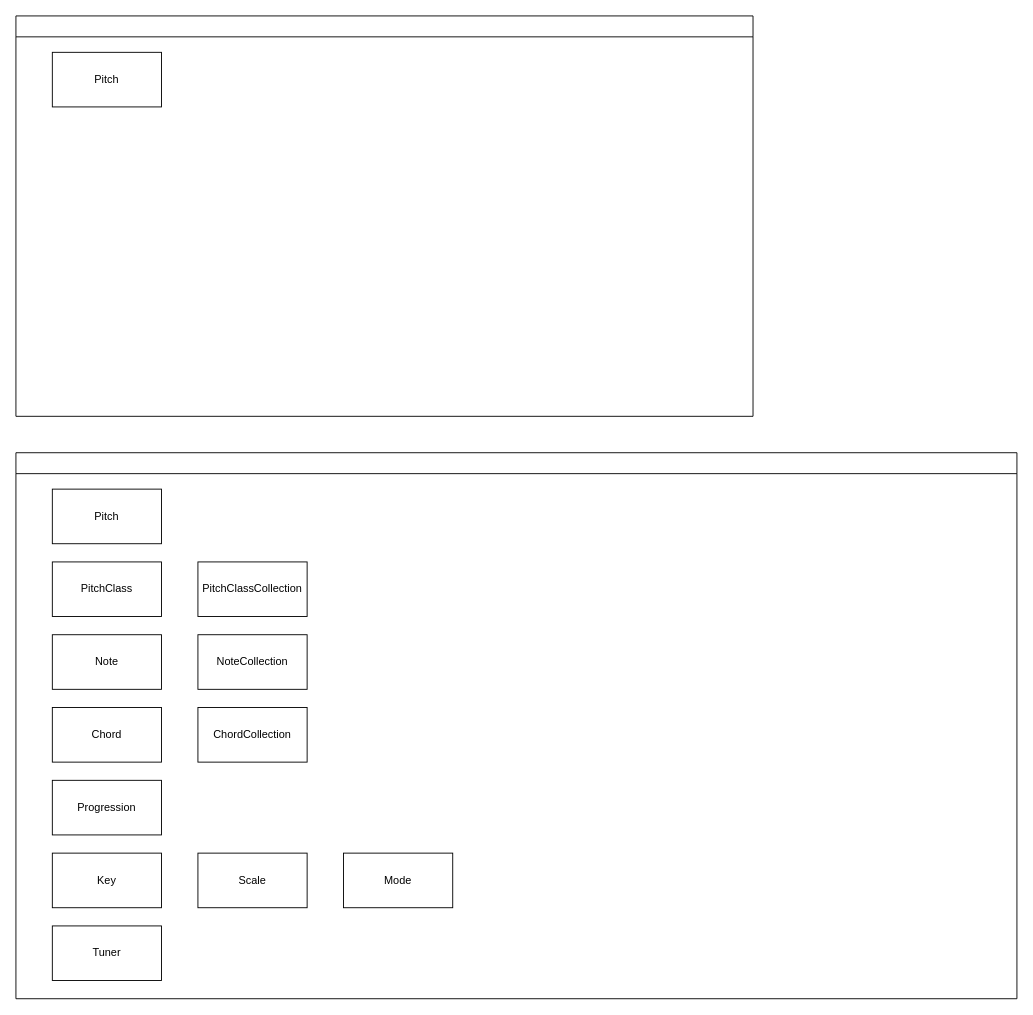
Image size: 1033x1015. Some labels were removed from this diagram. The box of each missing label's shape, as (x1, y1, x2, y2) in pixels:
API: (15, 452, 1017, 999)
Schema: (15, 15, 753, 416)
